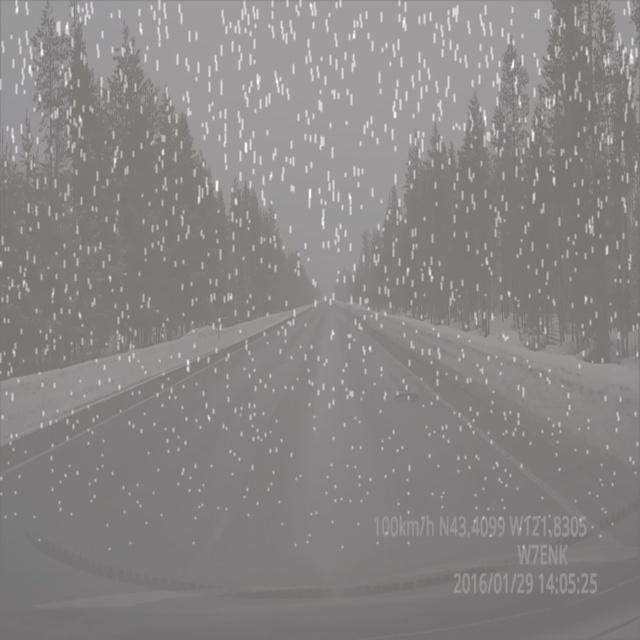Pothole: (395, 388, 433, 415)
